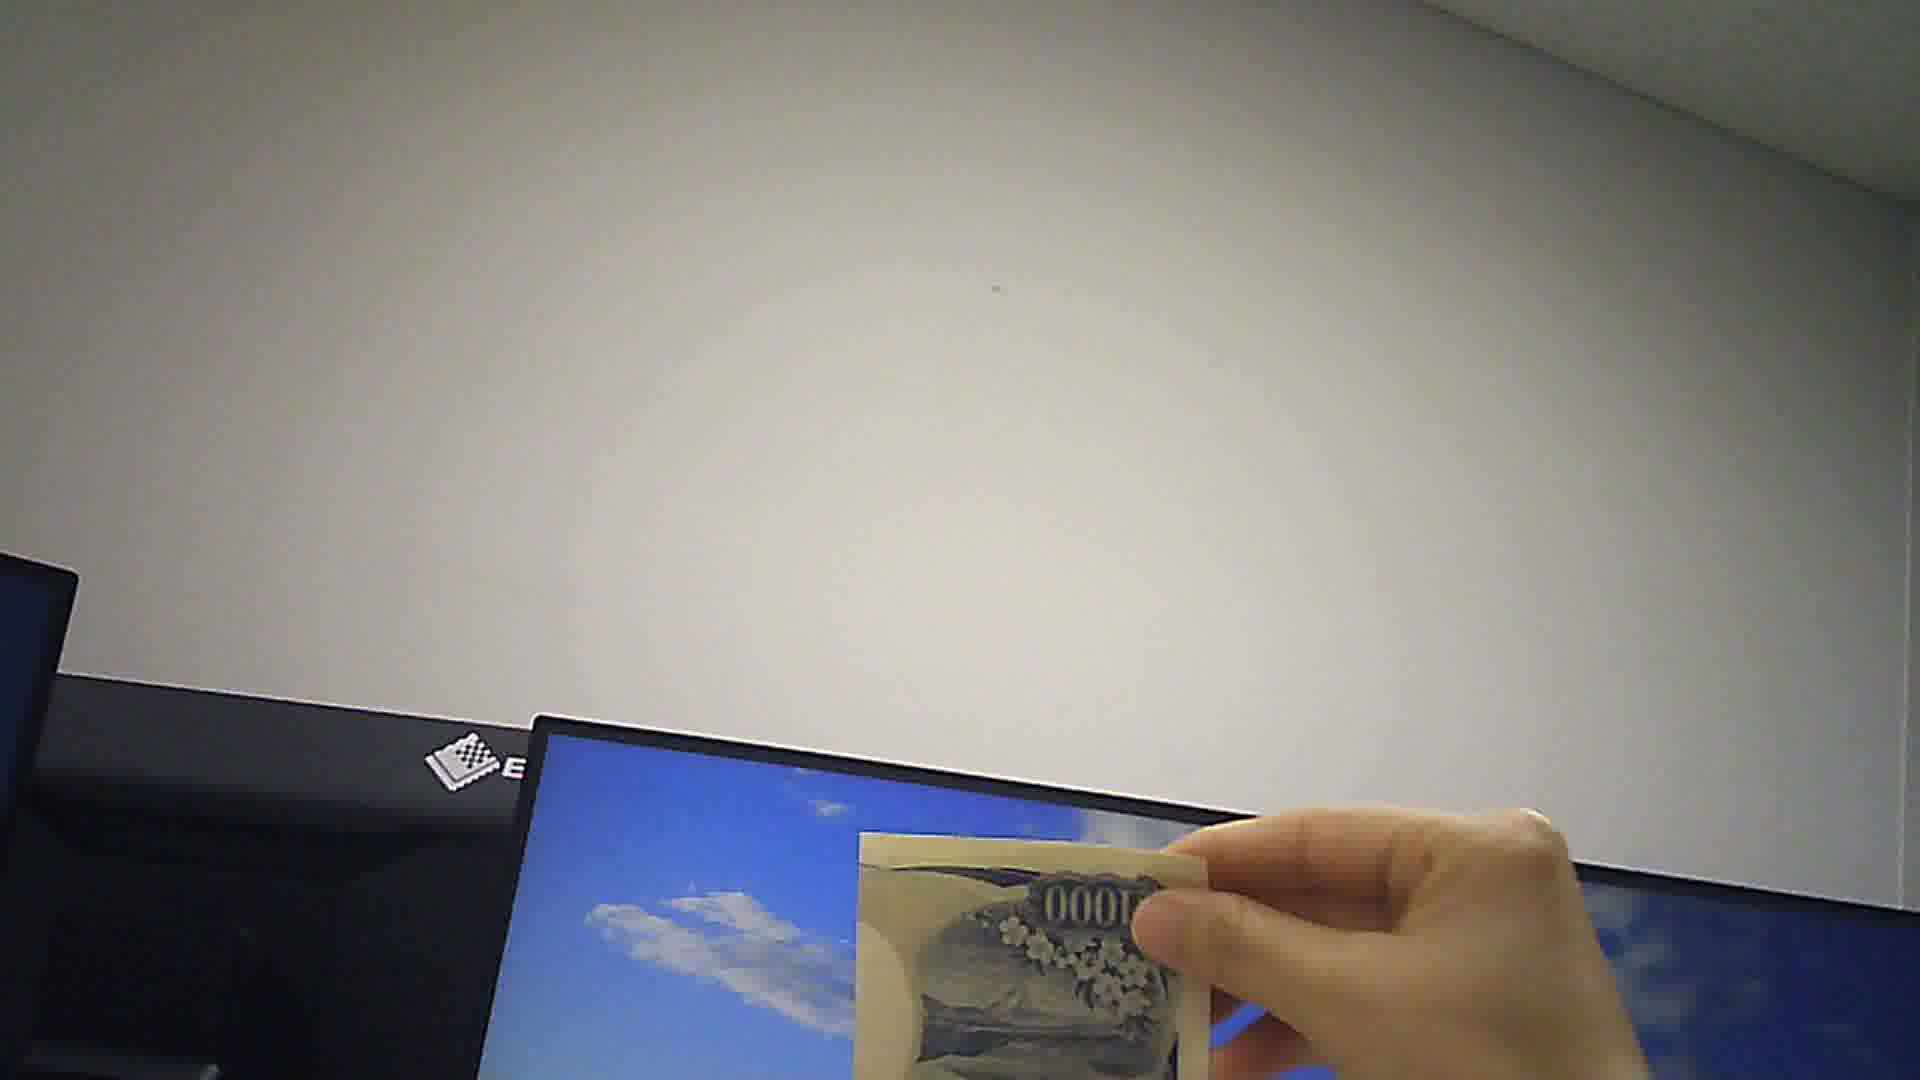1,000 Yen: (848, 818, 1232, 1077)
